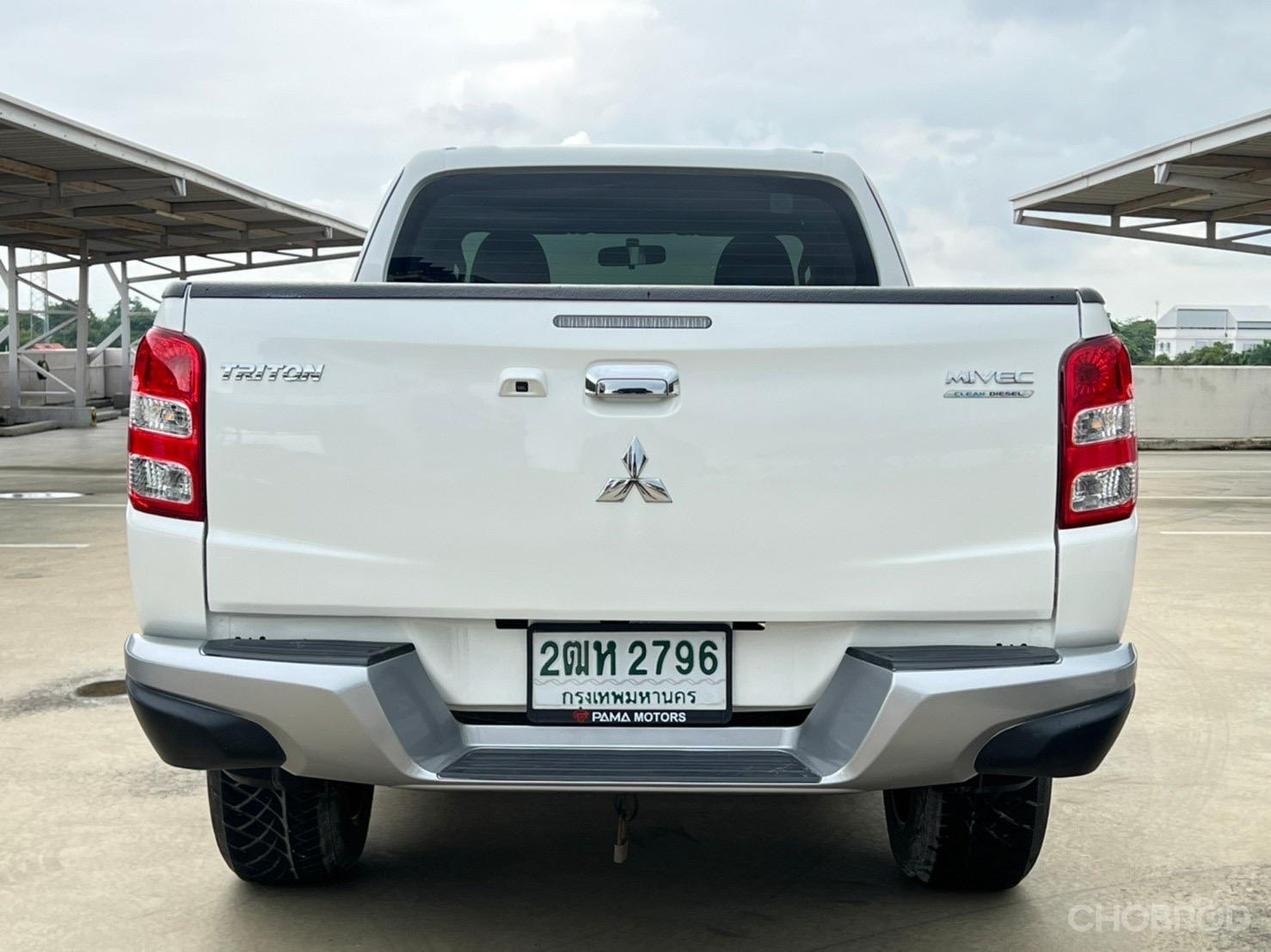license-plate: (525, 621, 734, 727)
